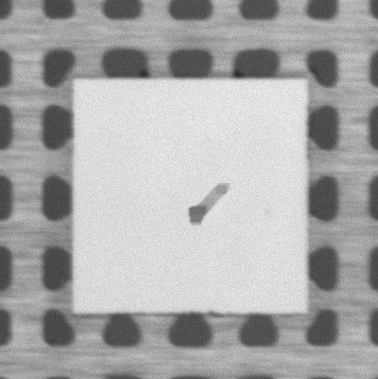DIE_INK: (182, 177, 233, 230)
